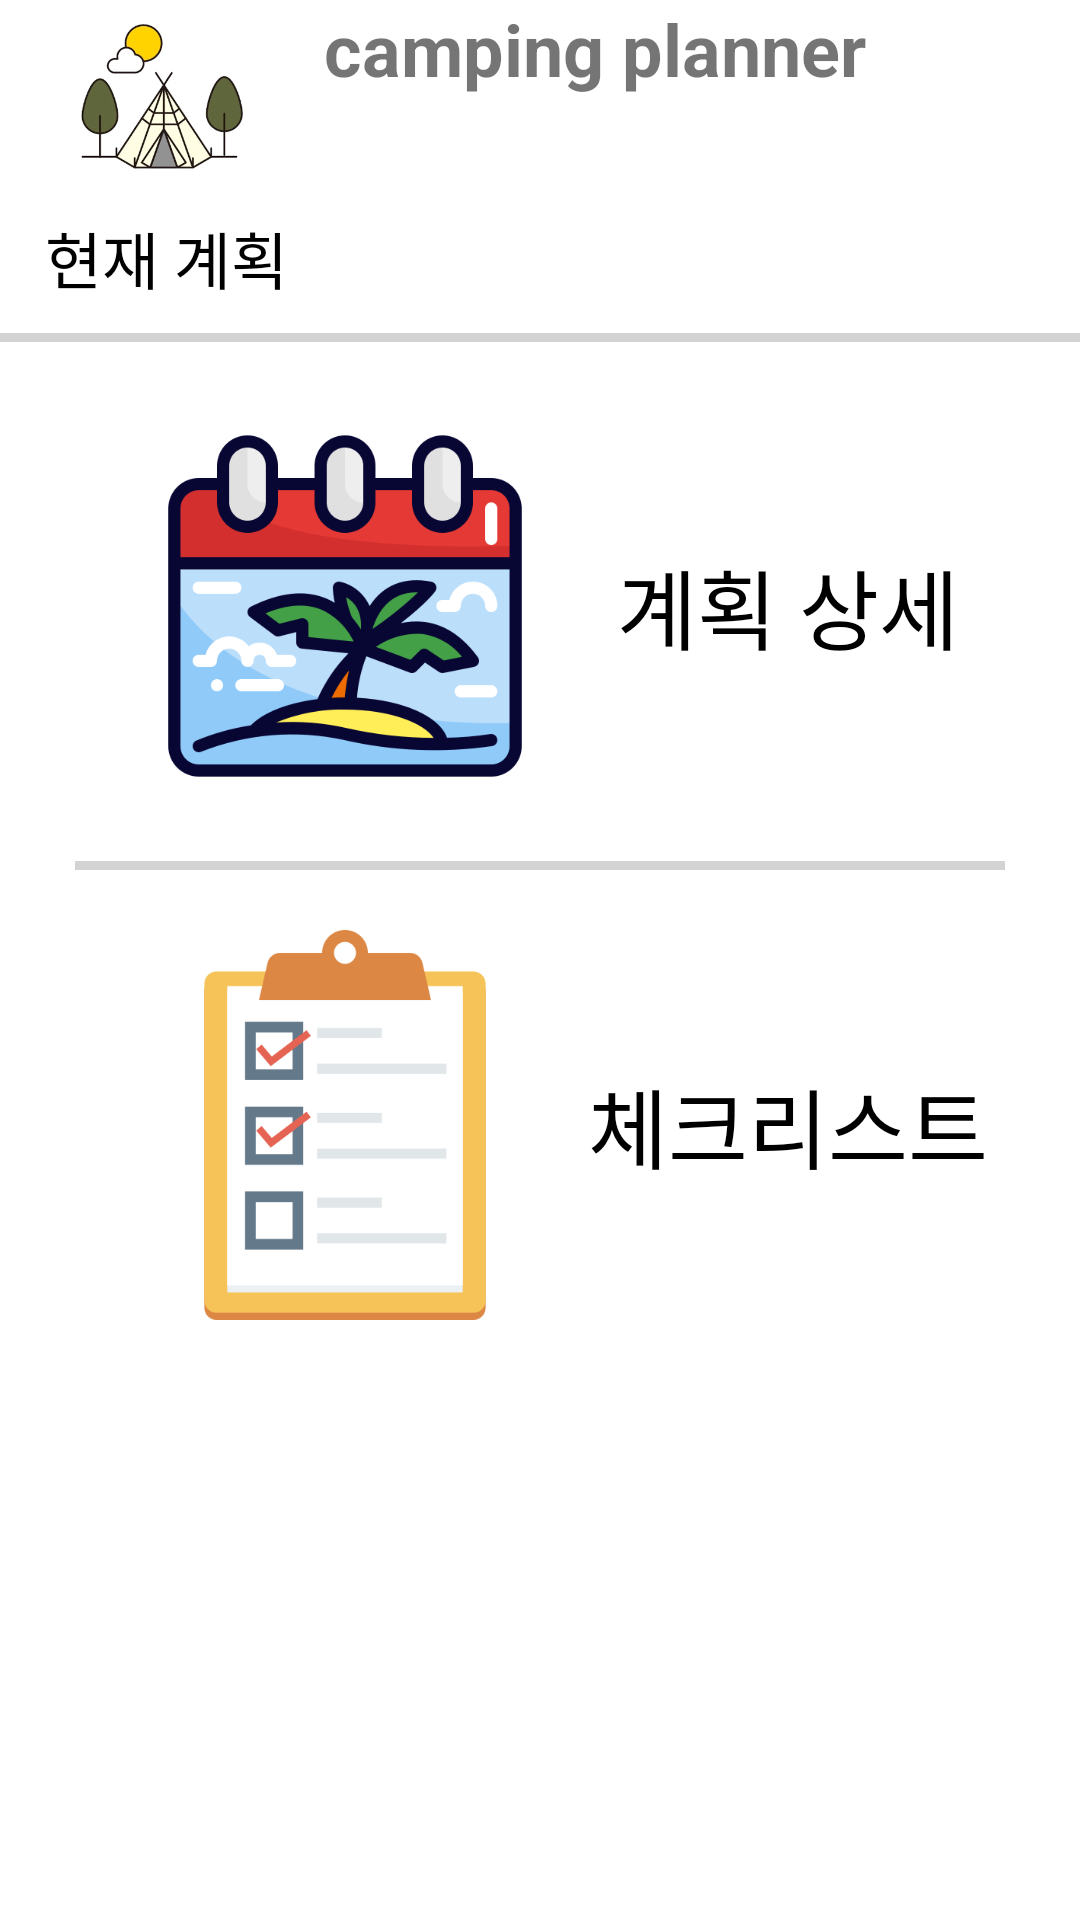

Icons on this 1080 × 1920 Android screen, each with its box as (x1, y1, x2, y2):
plandetail: (168, 435, 522, 777)
